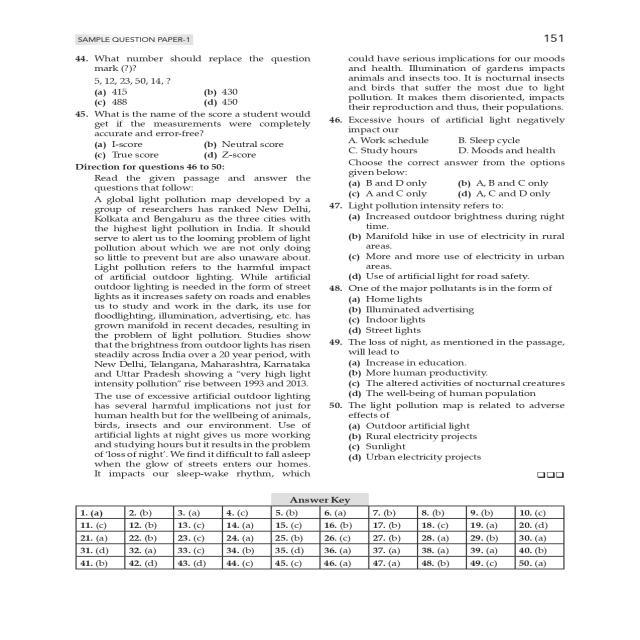Answer_Block: (324, 210, 592, 284), (324, 292, 592, 335), (54, 85, 320, 110), (324, 176, 592, 200), (54, 138, 320, 162), (324, 400, 592, 422)
Instruction: (54, 162, 320, 495), (324, 52, 592, 112)
Question_Answer_Block: (324, 114, 592, 200), (324, 198, 592, 284), (324, 400, 592, 465), (324, 338, 592, 400), (54, 50, 320, 110), (324, 283, 592, 335), (54, 111, 320, 162)
Question_Block: (324, 115, 592, 177), (324, 358, 592, 400), (324, 423, 592, 465), (54, 50, 320, 84), (54, 111, 320, 139), (324, 338, 592, 356), (324, 198, 592, 212), (324, 283, 592, 292)
Question_Paper_Area: (324, 52, 592, 498), (54, 50, 320, 495)
